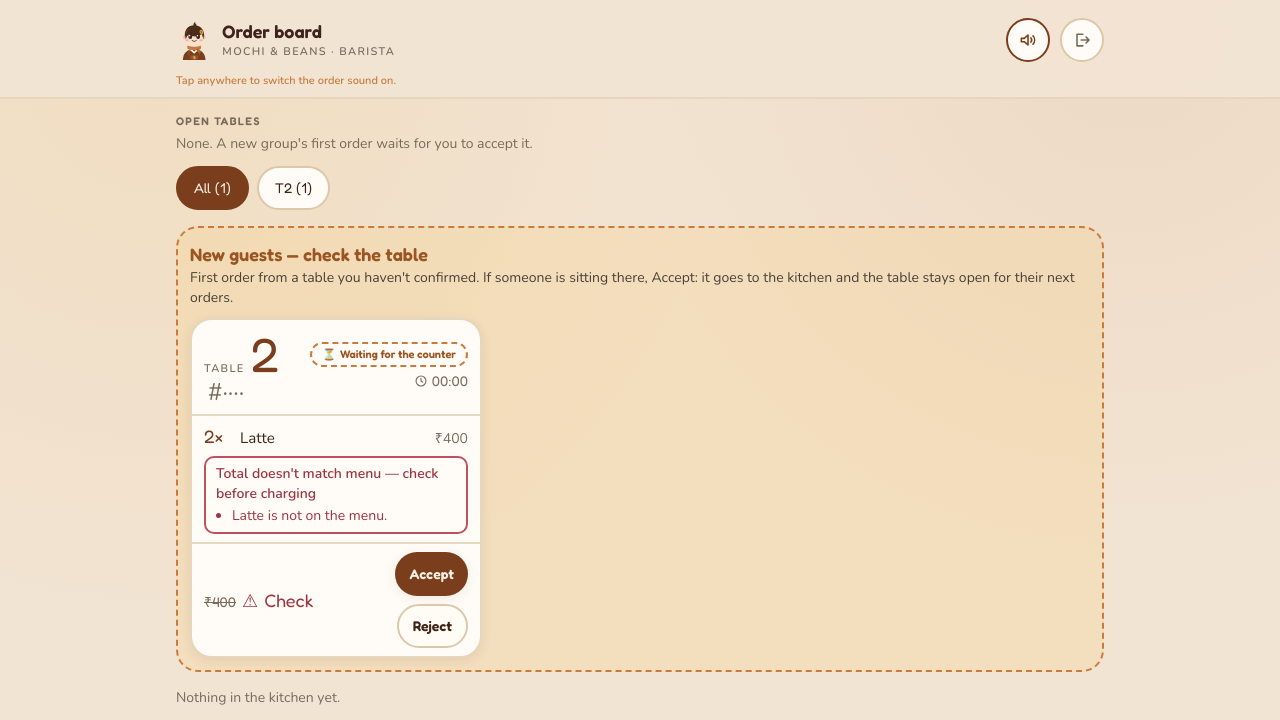
staff board: new guests › Accept sends it to the kitchen and opens the table for three hours
Click the button "Accept": (432, 574) [395, 552, 468, 596]
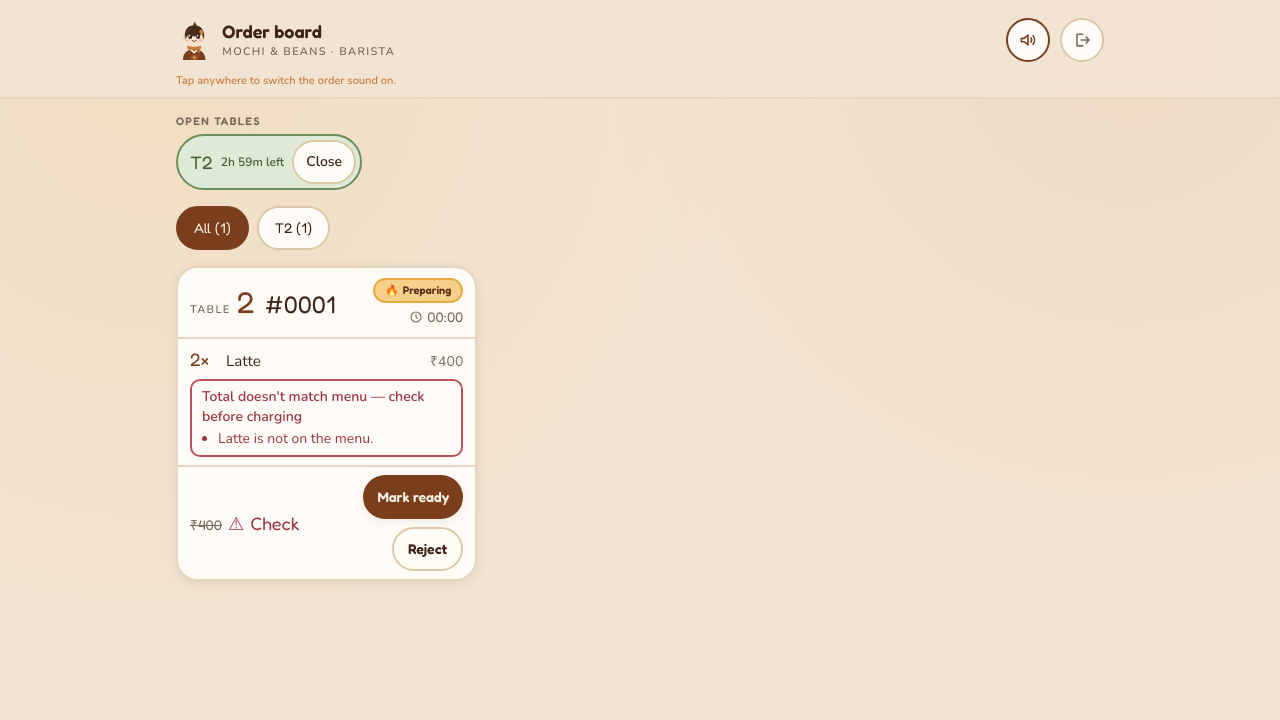
Check: the heading "New guests — check the table" is gone
Check: the button "Mark ready" is shown, box [363, 475, 463, 519]
Check: the text "T2" is shown, box [190, 153, 213, 171]
